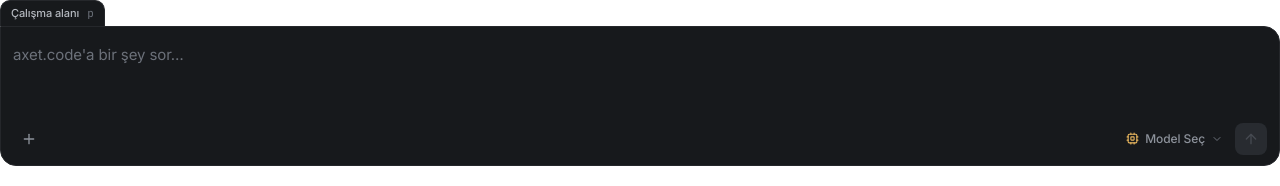
it: ChatComposer › bahis menüsü açıkken Enter göndermiyor, seçimi uyguluyor
Type "@a" into the text box at (640, 76), box [13,36,1267,116]
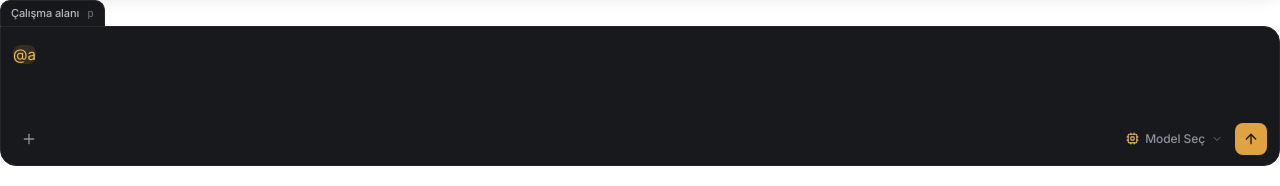
Press Enter in the text box, box [13,36,1267,116]
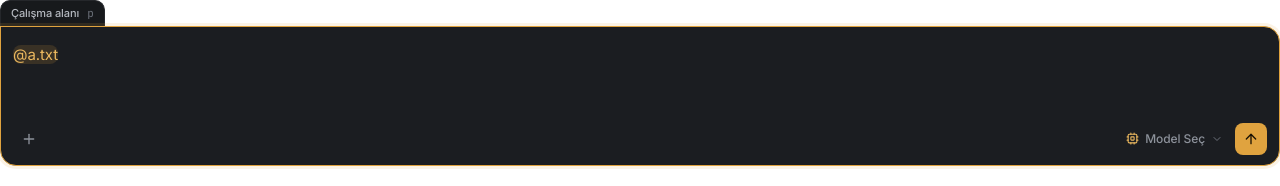
Expected: the text box holds "@a.txt ", [13,36,1267,116]
